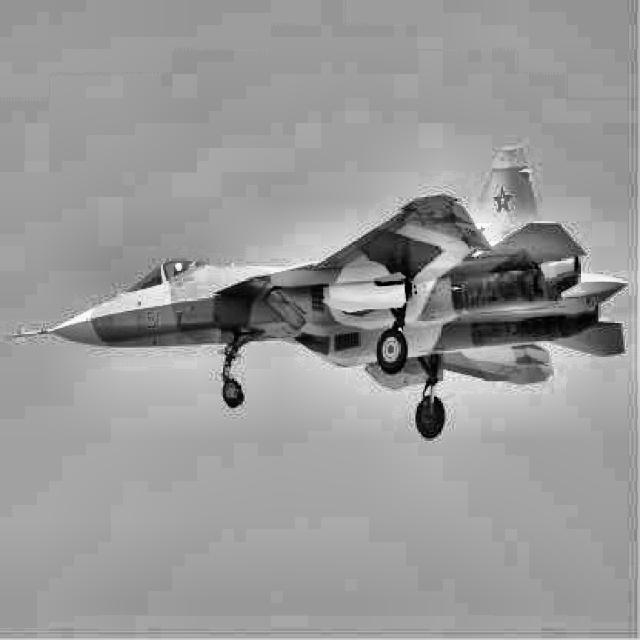Su57: (5, 146, 628, 440)
